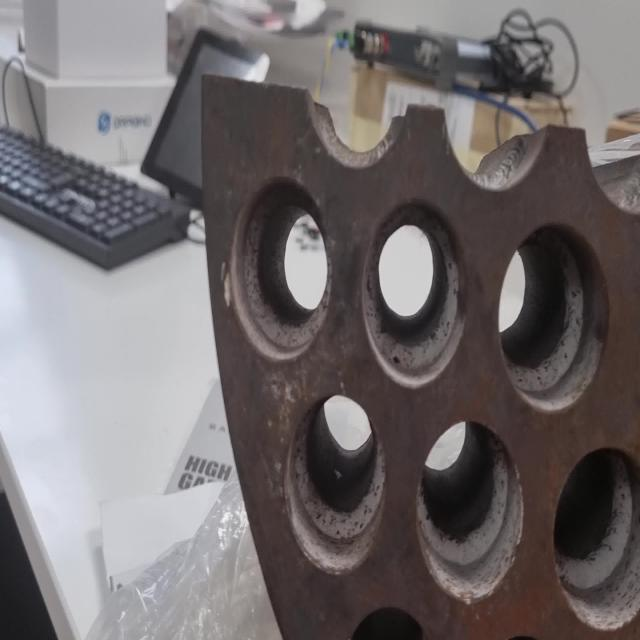Hole: (497, 220, 610, 412), (358, 196, 466, 388), (417, 414, 524, 604), (225, 173, 333, 361), (283, 394, 387, 575), (552, 444, 639, 632)
